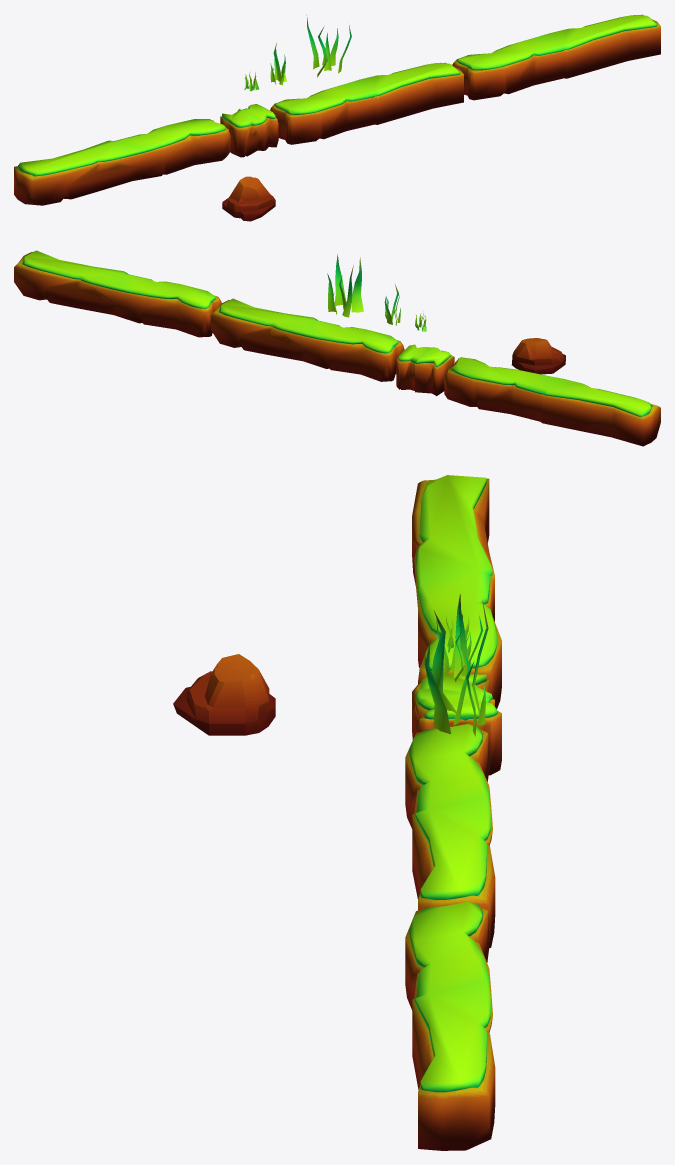
Rendered from marioLevel.fbx.
The picture shows the model from 3 angles, top to bottom: view 1: azimuth 30°, elevation 25°; view 2: azimuth 150°, elevation 25°; view 3: azimuth 270°, elevation 25°; orthographic projection. The views are drawn at different scales.
Visible parts, largest first — view 1: greenGround, greenGround.003, greenGround.002, greenGround.001, rock, grass1, grass2; view 2: greenGround, greenGround.003, greenGround.002, greenGround.001, rock, grass1; view 3: greenGround.003, greenGround.002, greenGround, rock, greenGround.001, grass1, grass2.
Part boxes in pixels (left/top/right/bottom): greenGround: left=14, top=119, right=230, bottom=205; greenGround.003: left=452, top=14, right=660, bottom=100; greenGround.002: left=270, top=62, right=463, bottom=144; greenGround.001: left=220, top=104, right=278, bottom=157; rock: left=222, top=176, right=275, bottom=221; grass1: left=306, top=15, right=351, bottom=77; grass2: left=270, top=43, right=286, bottom=85; greenGround: left=444, top=357, right=660, bottom=446; greenGround.003: left=14, top=250, right=221, bottom=337; greenGround.002: left=211, top=298, right=404, bottom=381; greenGround.001: left=396, top=344, right=454, bottom=395; rock: left=511, top=338, right=565, bottom=374; grass1: left=327, top=254, right=363, bottom=317; greenGround.003: left=405, top=902, right=495, bottom=1150; greenGround.002: left=405, top=724, right=495, bottom=948; greenGround: left=412, top=475, right=501, bottom=708; rock: left=173, top=654, right=275, bottom=735; greenGround.001: left=412, top=673, right=501, bottom=775; grass1: left=425, top=600, right=488, bottom=736; grass2: left=436, top=593, right=483, bottom=681.
Size of the model in its own units: 2080 by 374 by 468.
